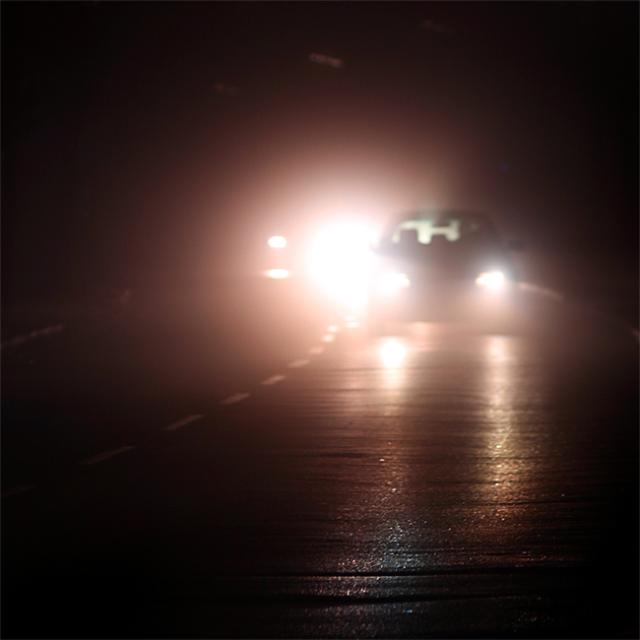Car: (323, 164, 566, 364)
